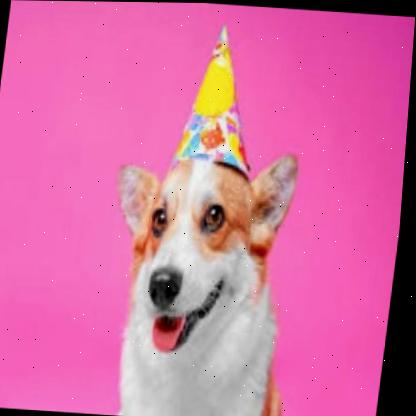dog: (87, 142, 316, 416)
